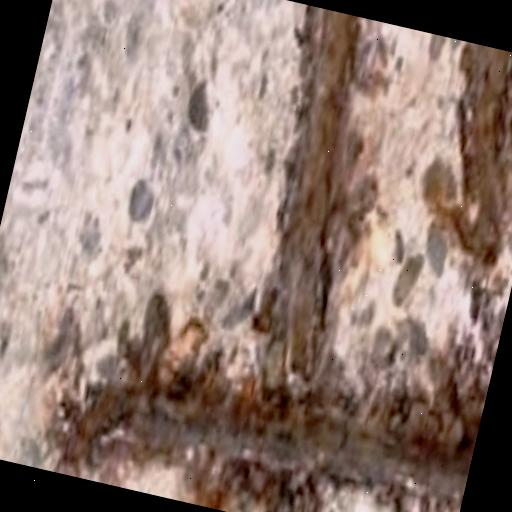spalling: (46, 13, 483, 506), (416, 40, 512, 276)
